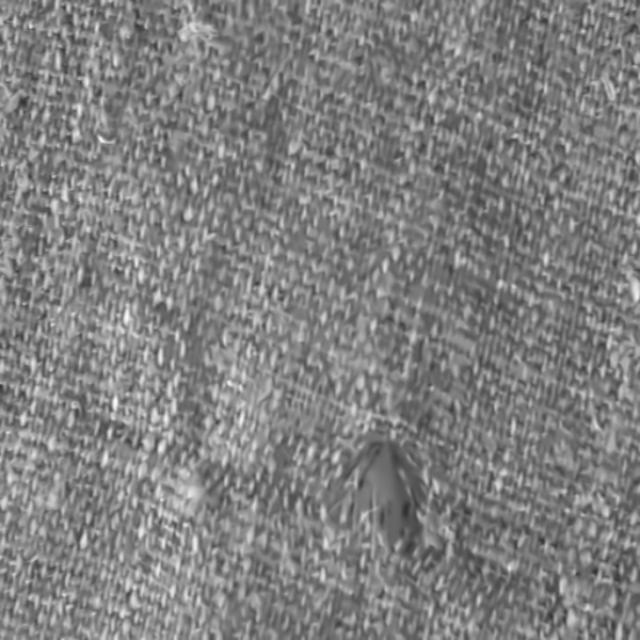seam: (271, 398, 472, 606)
